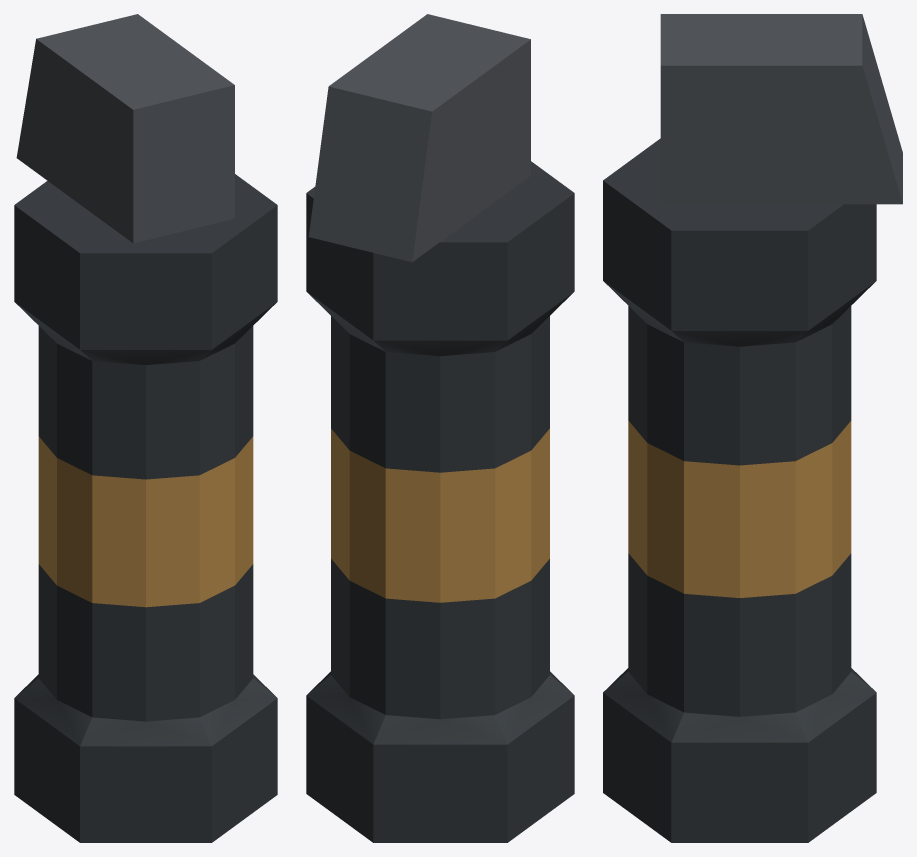
File: SM_Wep_Flashbang_01.fbx
3 views of the same model, side by side, from view 1: azimuth 30°, elevation 25°; view 2: azimuth 150°, elevation 25°; view 3: azimuth 270°, elevation 25° (orthographic). The views are drawn at different scales.
Parts seen in each view (by area): view 1: SM_Wep_Flashbang_01; view 2: SM_Wep_Flashbang_01; view 3: SM_Wep_Flashbang_01.
Part boxes in pixels (<box>): SM_Wep_Flashbang_01: <box>14,14,277,842</box>; SM_Wep_Flashbang_01: <box>306,14,574,842</box>; SM_Wep_Flashbang_01: <box>603,14,902,842</box>.
Size of the model in its own units: 4.74 by 16.62 by 6.
